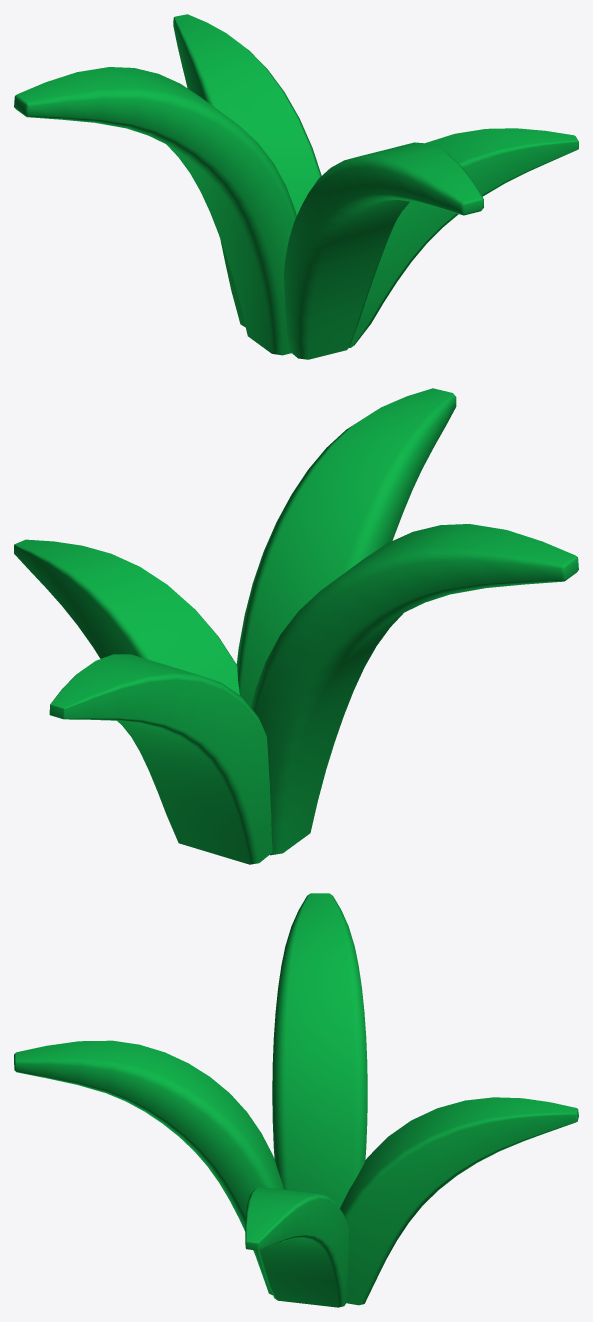
File: City_5_Grass_1.glb
The picture shows the model from 3 angles, top to bottom: view 1: azimuth 30°, elevation 25°; view 2: azimuth 150°, elevation 25°; view 3: azimuth 270°, elevation 25°; orthographic projection. The views are drawn at different scales.
Parts seen in each view (by area): view 1: City_5_Grass_1; view 2: City_5_Grass_1; view 3: City_5_Grass_1.
Boxes of the visible parts, x1,y1,x2,y2 form: City_5_Grass_1: [14, 14, 578, 359]; City_5_Grass_1: [14, 388, 578, 864]; City_5_Grass_1: [14, 893, 578, 1307].
Size of the model in its own units: 0.6658 by 0.3749 by 0.6988.
1 material, 1 textured.
